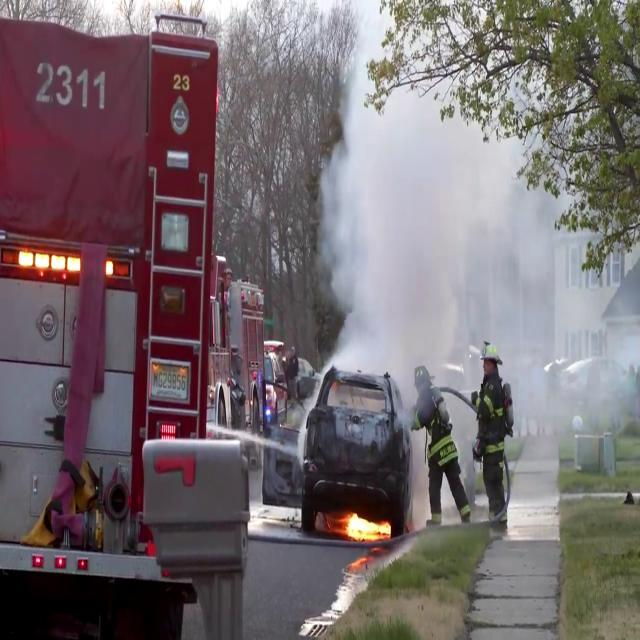Fire: (341, 506, 388, 546)
Smoke: (318, 31, 622, 410)
